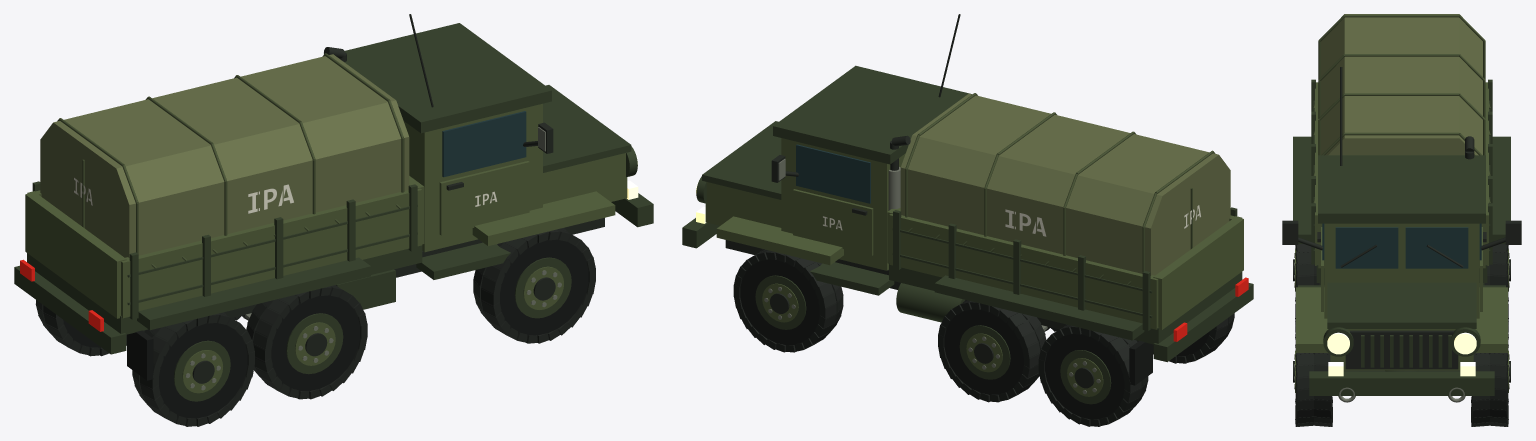
File: IPA-army-truck.glb
3 renders of one model, left to right at view 1: azimuth 30°, elevation 25°; view 2: azimuth 150°, elevation 25°; view 3: azimuth 270°, elevation 25°, orthographic. The views are drawn at different scales.
Visible parts, largest first — view 1: IPA_Army_Truck, Canvas_Cargo_Cover, All_Terrain_Wheel (×4); view 2: IPA_Army_Truck, Canvas_Cargo_Cover, All_Terrain_Wheel (×4); view 3: IPA_Army_Truck, Canvas_Cargo_Cover, All_Terrain_Wheel (×4).
Boxes of the visible parts, x1=… form: IPA_Army_Truck: x1=14, y1=14, x2=653, y2=380; Canvas_Cargo_Cover: x1=40, y1=54, x2=409, y2=257; All_Terrain_Wheel (×4): x1=35, y1=228, x2=595, y2=426; IPA_Army_Truck: x1=682, y1=14, x2=1253, y2=385; Canvas_Cargo_Cover: x1=900, y1=93, x2=1230, y2=275; All_Terrain_Wheel (×4): x1=733, y1=249, x2=1234, y2=426; IPA_Army_Truck: x1=1282, y1=14, x2=1521, y2=402; Canvas_Cargo_Cover: x1=1321, y1=14, x2=1482, y2=155; All_Terrain_Wheel (×4): x1=1293, y1=244, x2=1510, y2=426.
Bounding box in the file's own units: 6.75 × 4 × 2.83.
Materials: 16 (5 with a texture image).
